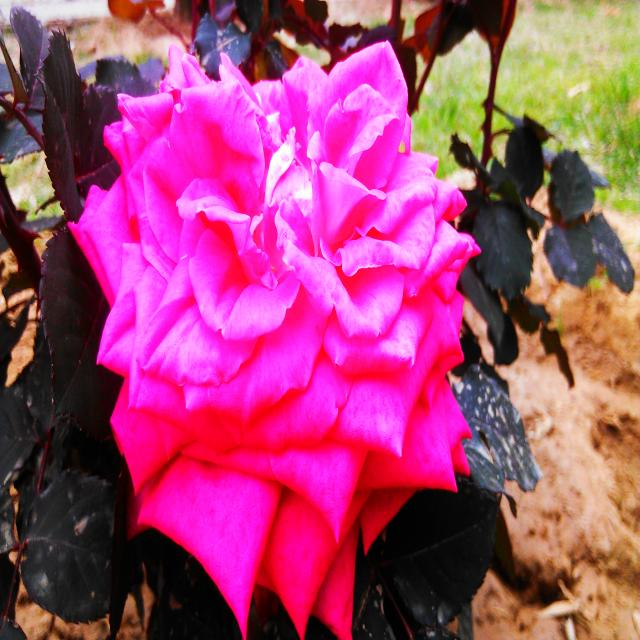rose: (80, 47, 482, 612)
